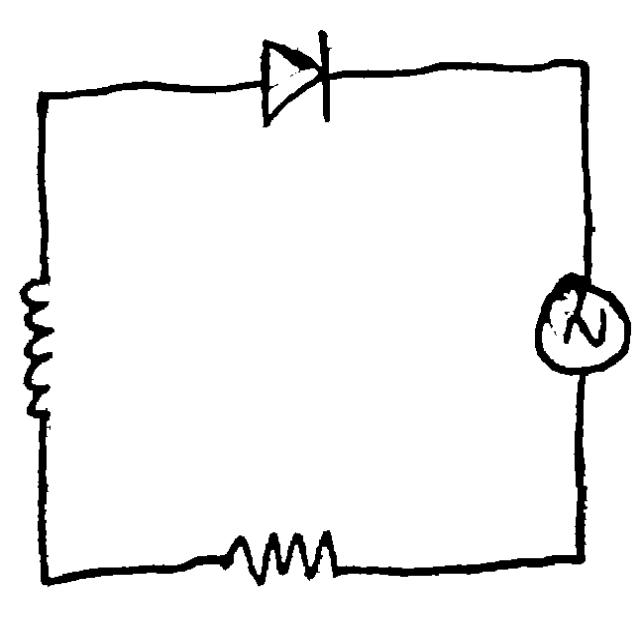ac: (528, 260, 638, 388)
diode: (245, 16, 344, 147)
resistor: (212, 506, 356, 598), (8, 262, 74, 433)
